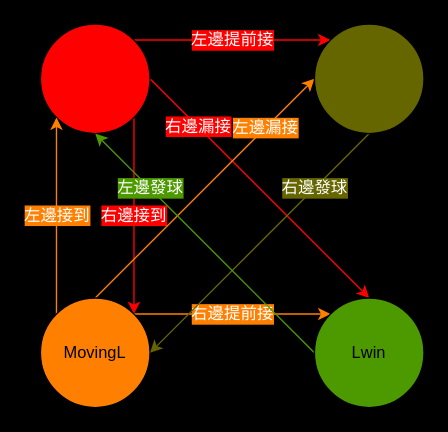
This 448x432 diagram has some shape labels left out. The shapes that lost their labels are listed below. From the top down, each one's centre as x and y in pixels, then its label:
point (94, 78): MovingR
point (368, 78): Rwin
